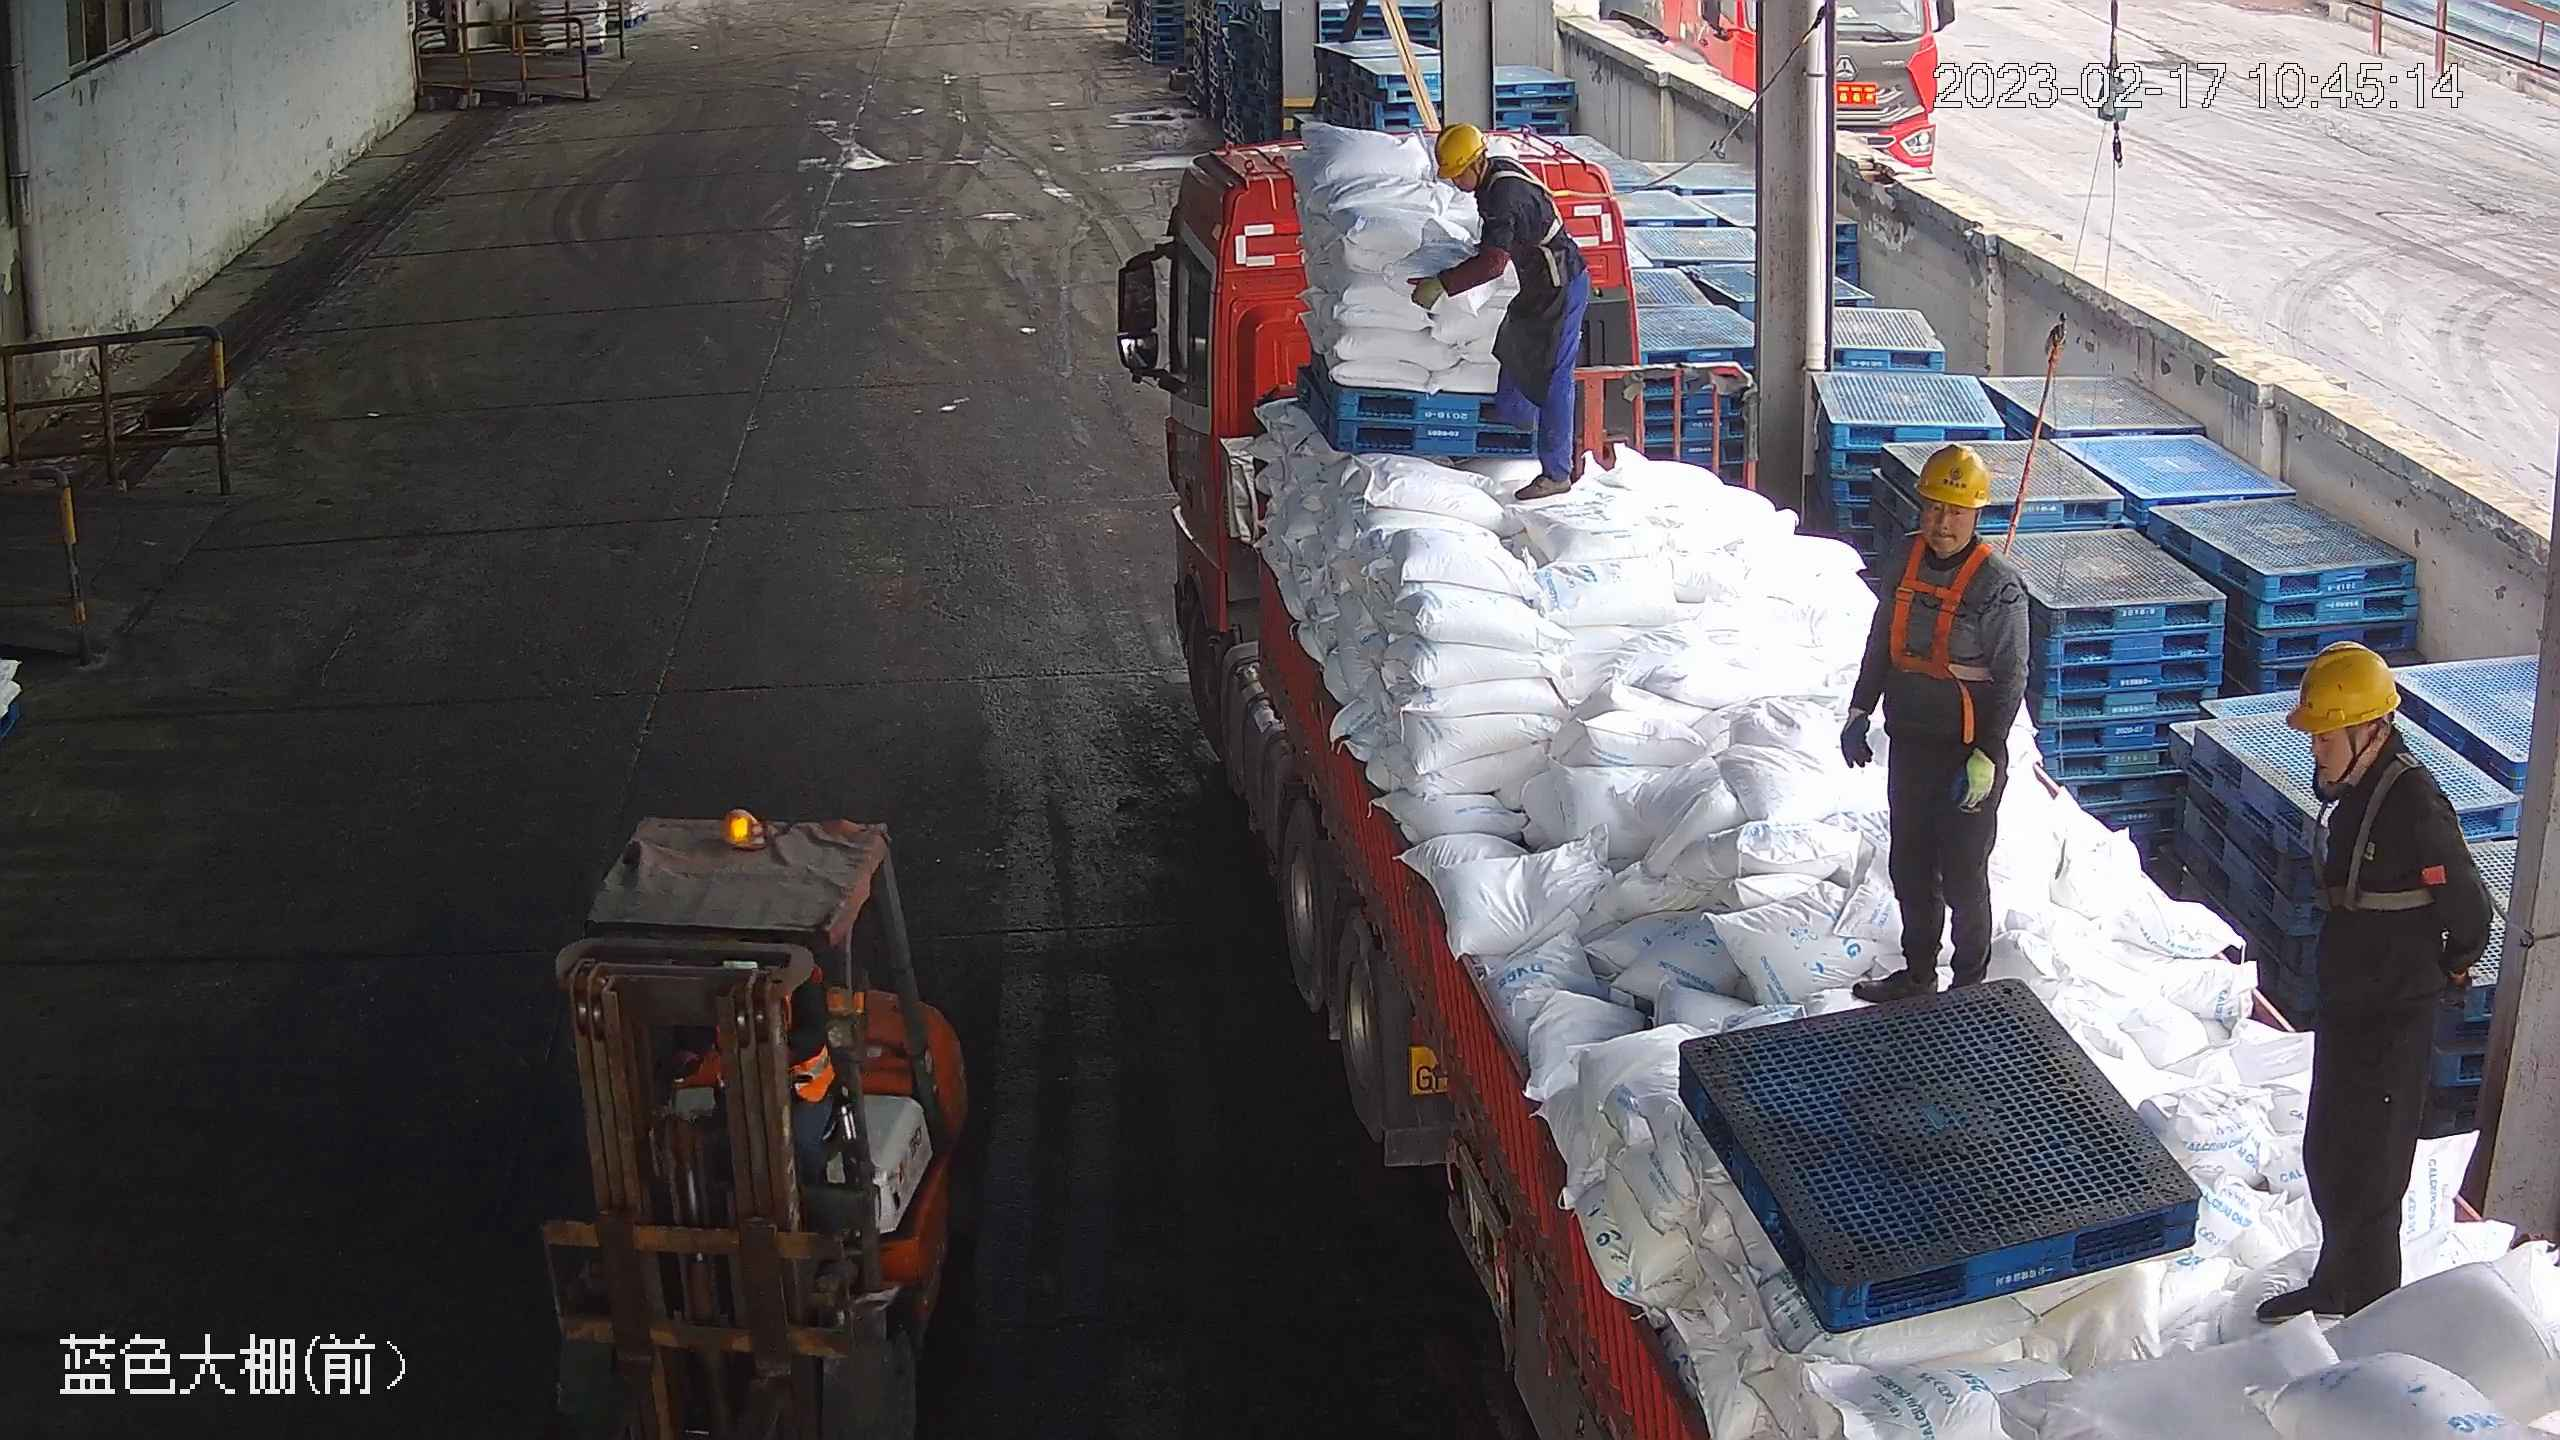belt: (2298, 757, 2445, 928), (1888, 533, 2020, 700), (1486, 149, 1581, 254)
head: (2269, 642, 2469, 881), (1866, 445, 2032, 628), (1420, 127, 1551, 254)
helmet: (2288, 640, 2401, 733), (1912, 444, 1993, 511), (1428, 126, 1486, 179)
people: (2256, 640, 2500, 1327), (1835, 439, 2035, 1005), (1405, 128, 1598, 503)
truck: (1115, 125, 2560, 1440)
